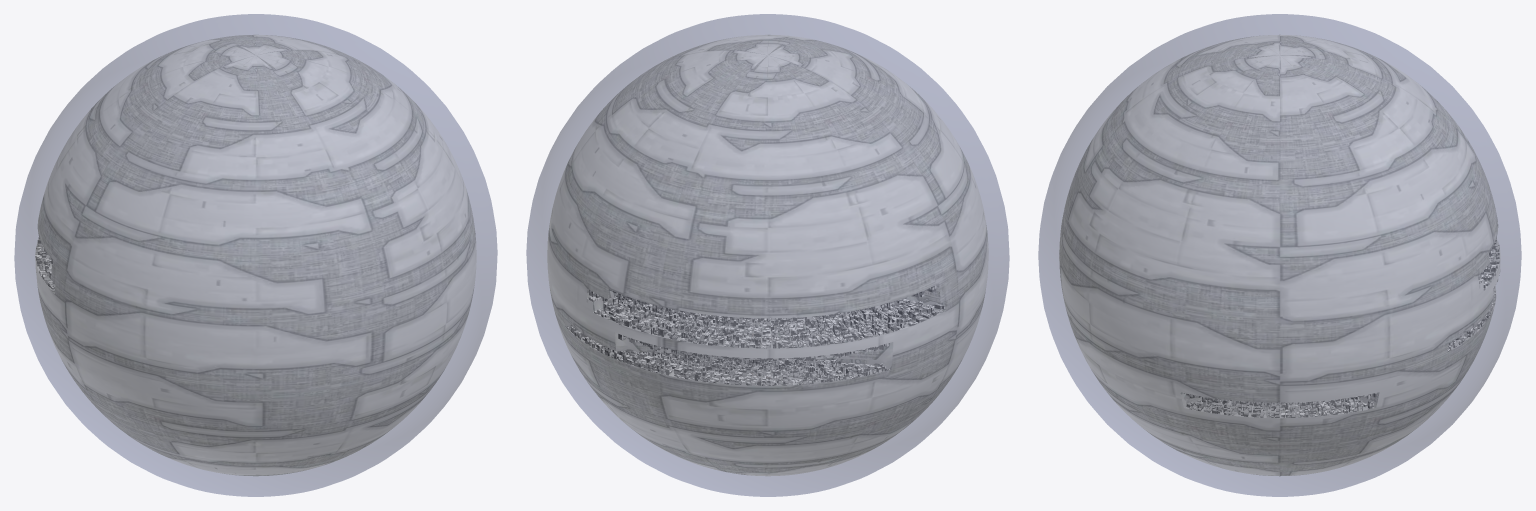
3 views of the same model, side by side, from view 1: azimuth 30°, elevation 25°; view 2: azimuth 150°, elevation 25°; view 3: azimuth 270°, elevation 25° (orthographic).
Parts seen in each view (by area): view 1: Atmo_Mat20_0, TechnoPlanet_1_0; view 2: Atmo_Mat20_0, TechnoPlanet_1_0, TechnoCity_3_0, TechnoPlanetFlats_2_0; view 3: Atmo_Mat20_0, TechnoPlanet_1_0, TechnoCity_3_0, TechnoPlanetFlats_2_0.
Part boxes in pixels (bbox=[...]): Atmo_Mat20_0: bbox=[14, 14, 497, 496]; TechnoPlanet_1_0: bbox=[35, 34, 476, 476]; Atmo_Mat20_0: bbox=[526, 14, 1009, 496]; TechnoPlanet_1_0: bbox=[547, 34, 988, 476]; TechnoCity_3_0: bbox=[565, 285, 944, 385]; TechnoPlanetFlats_2_0: bbox=[563, 283, 947, 385]; Atmo_Mat20_0: bbox=[1038, 14, 1521, 496]; TechnoPlanet_1_0: bbox=[1059, 34, 1500, 476]; TechnoCity_3_0: bbox=[1181, 237, 1500, 417]; TechnoPlanetFlats_2_0: bbox=[1180, 239, 1500, 418].
Bounding box in the file's own units: 110 × 110 × 110.
Materials: 4 (3 with a texture image).
